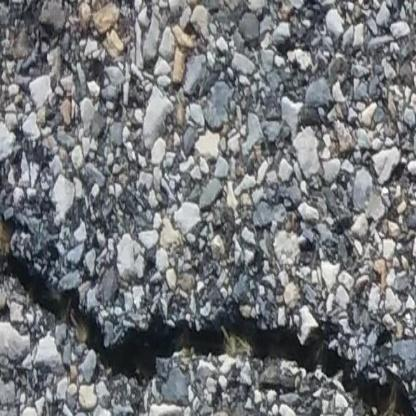Cracks: (0, 171, 416, 416)
